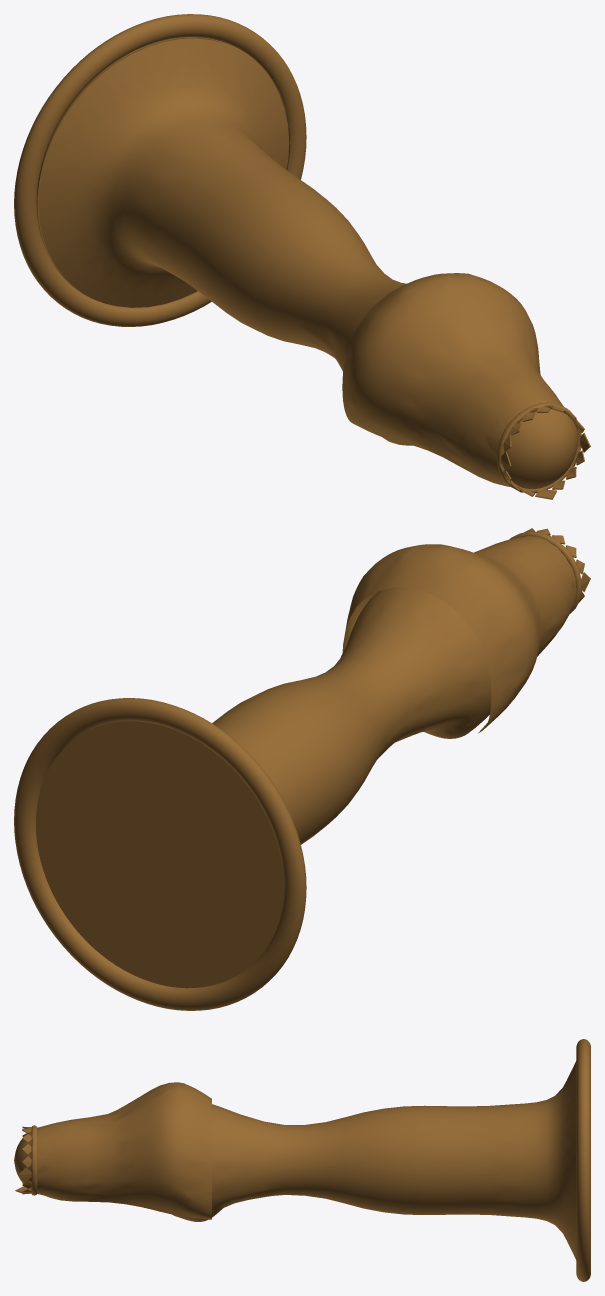
File: queen.obj
3 renders of one model, top to bottom at view 1: azimuth 30°, elevation 25°; view 2: azimuth 150°, elevation 25°; view 3: azimuth 270°, elevation 25°, orthographic. The views are drawn at different scales.
Bounding box in the file's own units: 16.83 × 16.83 × 40.
